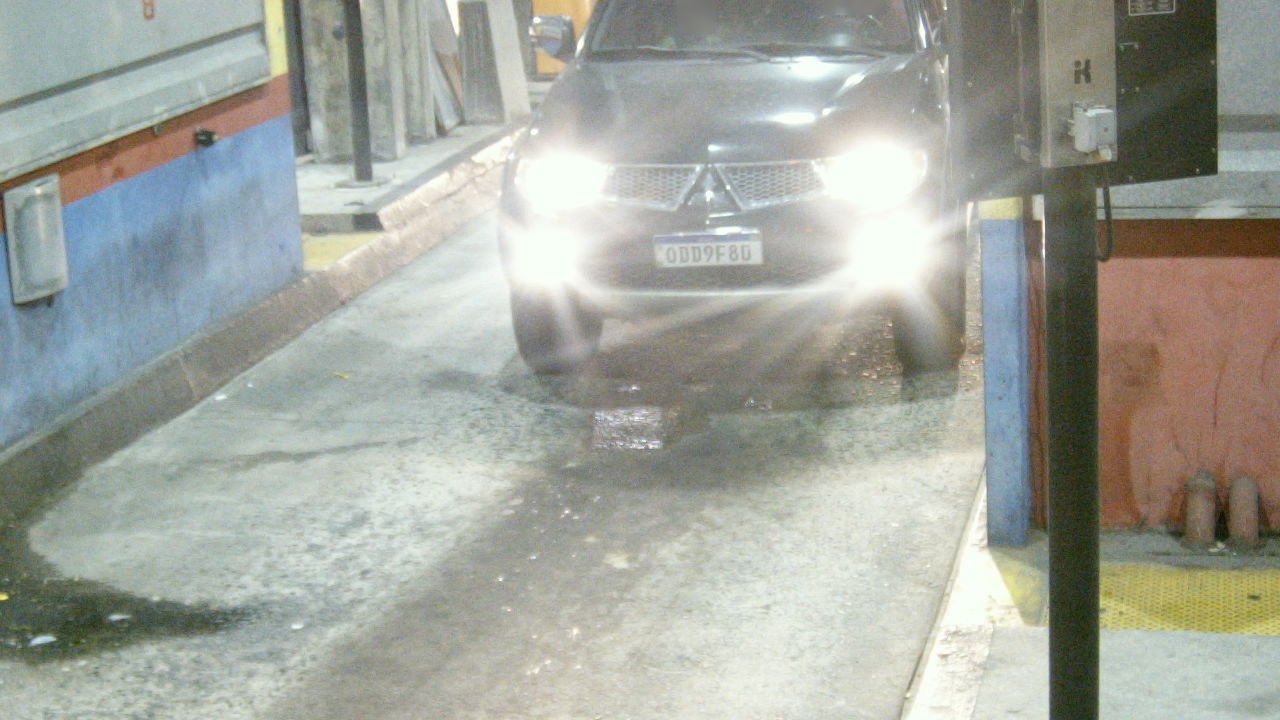placa: (653, 230, 764, 267)
